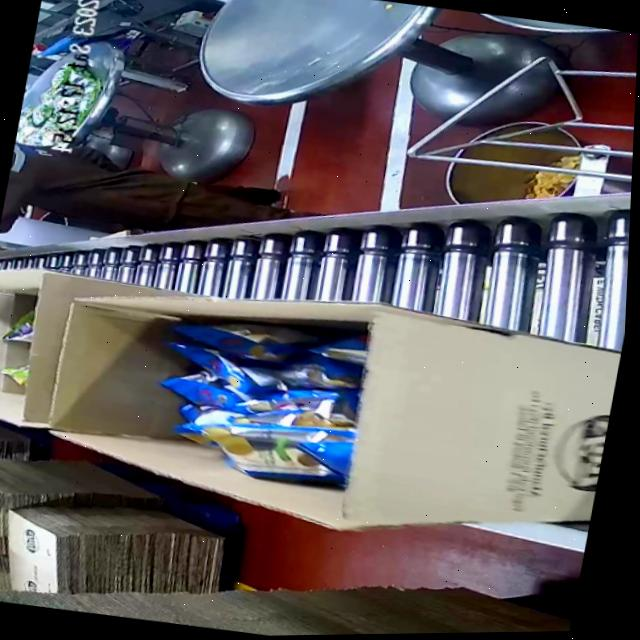PAPRIKA: (140, 312, 367, 481)
